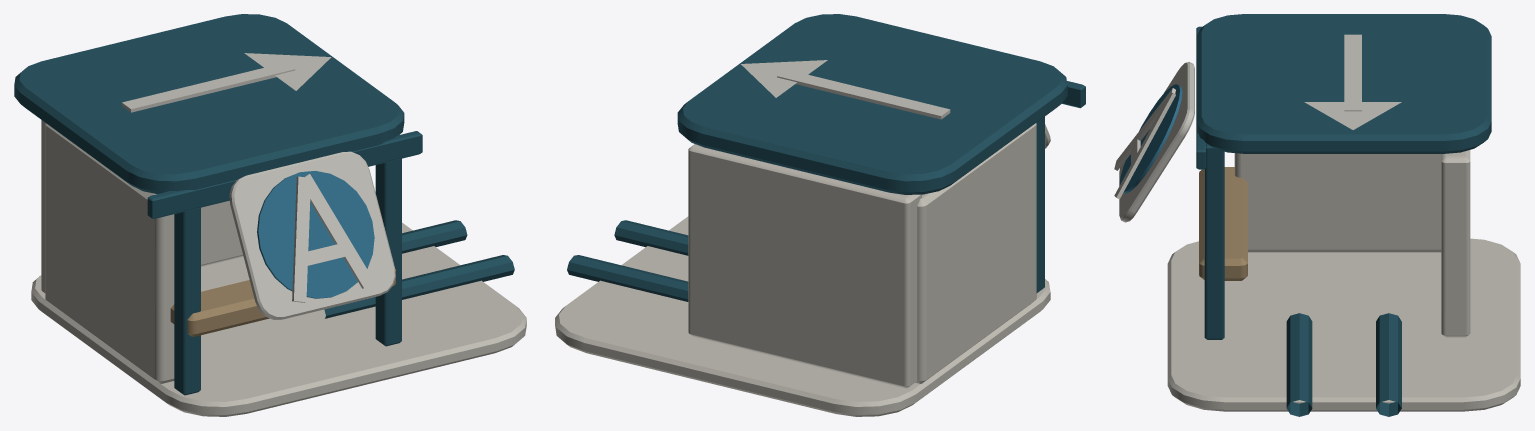
Rendered from guichet_a.glb.
3 renders of one model, left to right at view 1: azimuth 30°, elevation 25°; view 2: azimuth 150°, elevation 25°; view 3: azimuth 270°, elevation 25°, orthographic. The views are drawn at different scales.
Visible parts, largest first — view 1: Batch_CeramicSatin, Batch_StationPaint, Batch_CeramicLabel, Batch_AddressA, Batch_LetterIvory, Batch_PaintedMetal, Batch_WarmKraft; view 2: Batch_CeramicSatin, Batch_StationPaint, Batch_PaintedMetal, Batch_LetterIvory; view 3: Batch_CeramicSatin, Batch_StationPaint, Batch_PaintedMetal, Batch_LetterIvory, Batch_WarmKraft, Batch_CeramicLabel, Batch_AddressA.
Part boxes in pixels (x1,y1,x2,y2): Batch_CeramicSatin: (31,120,526,416); Batch_StationPaint: (14,14,422,395); Batch_CeramicLabel: (229,151,395,319); Batch_AddressA: (257,170,374,298); Batch_LetterIvory: (122,53,373,302); Batch_PaintedMetal: (324,220,514,318); Batch_WarmKraft: (170,269,395,336); Batch_CeramicSatin: (555,123,1050,416); Batch_StationPaint: (677,14,1085,292); Batch_PaintedMetal: (567,220,688,301); Batch_LetterIvory: (741,60,950,119); Batch_CeramicSatin: (1167,150,1520,411); Batch_StationPaint: (1196,14,1491,339); Batch_PaintedMetal: (1286,313,1401,416); Batch_LetterIvory: (1114,34,1401,199); Batch_WarmKraft: (1199,167,1247,280); Batch_CeramicLabel: (1119,62,1194,222); Batch_AddressA: (1119,84,1182,193).
Size of the model in its own units: 1 by 0.566 by 0.9095.
